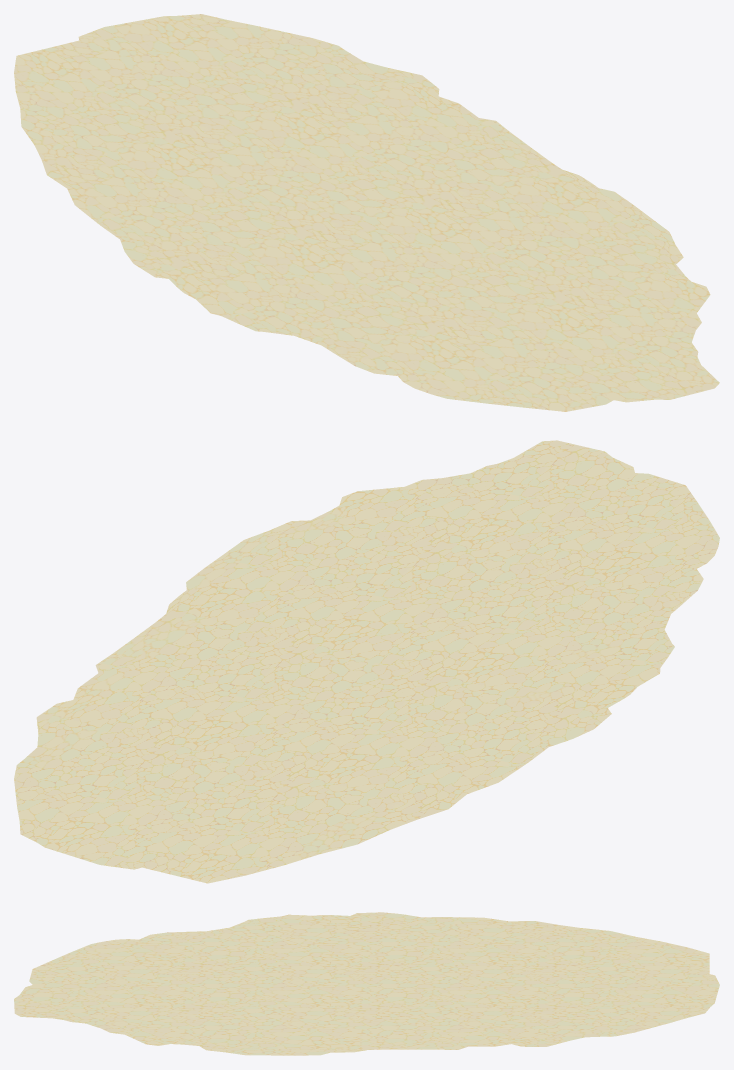
File: Mesh_Home_BH_Land_01.fbx
The picture shows the model from 3 angles, top to bottom: view 1: azimuth 30°, elevation 25°; view 2: azimuth 150°, elevation 25°; view 3: azimuth 270°, elevation 25°; orthographic projection. The views are drawn at different scales.
Visible parts, largest first — view 1: Mesh_Home_BH_Land_01; view 2: Mesh_Home_BH_Land_01; view 3: Mesh_Home_BH_Land_01.
Boxes of the visible parts, x1=… form: Mesh_Home_BH_Land_01: x1=14, y1=14, x2=719, y2=411; Mesh_Home_BH_Land_01: x1=14, y1=440, x2=719, y2=883; Mesh_Home_BH_Land_01: x1=14, y1=912, x2=719, y2=1055.
Size of the model in its own units: 3758 by 0.000341 by 7828.
1 material, 1 textured.
